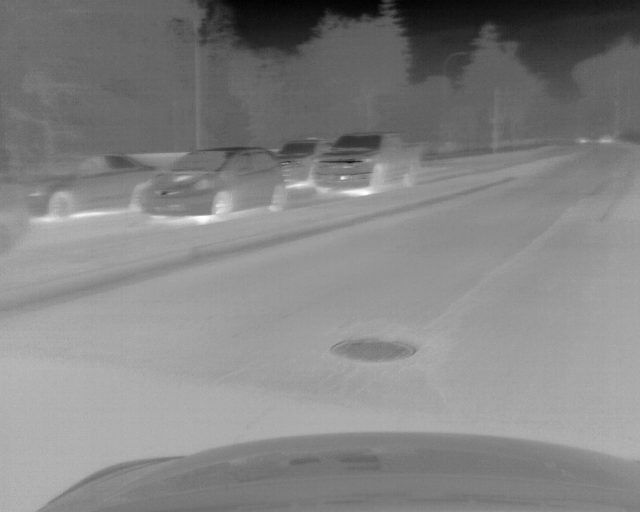car: (142, 145, 290, 222), (18, 149, 158, 218), (314, 131, 423, 196), (276, 137, 331, 190), (1, 179, 28, 251)
